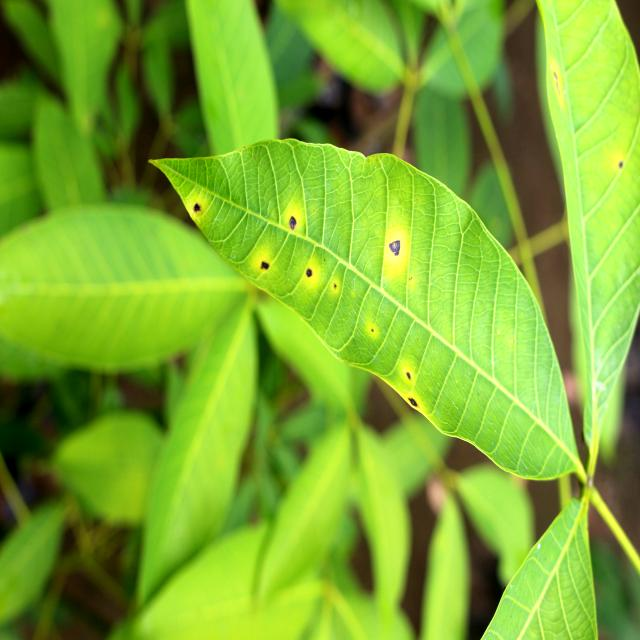Colletotrichum: (389, 240, 400, 256), (290, 216, 296, 230), (408, 398, 418, 406), (306, 269, 312, 277), (194, 203, 200, 211), (406, 372, 411, 379)
